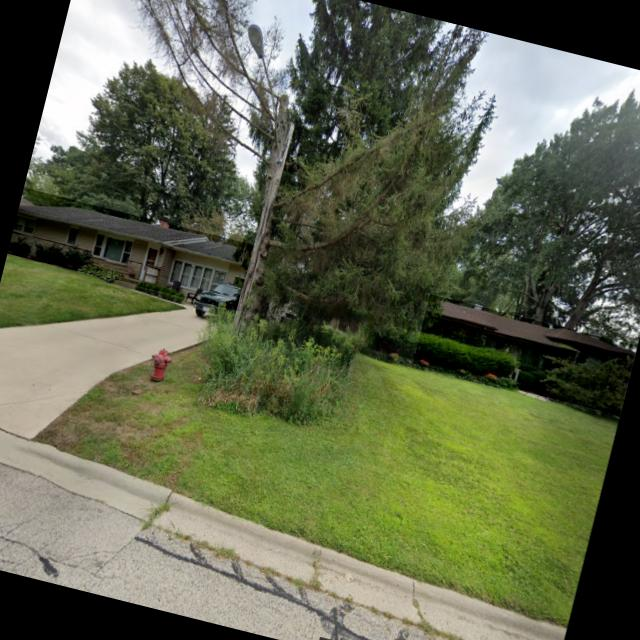House: (7, 187, 254, 311), (412, 294, 636, 415)
